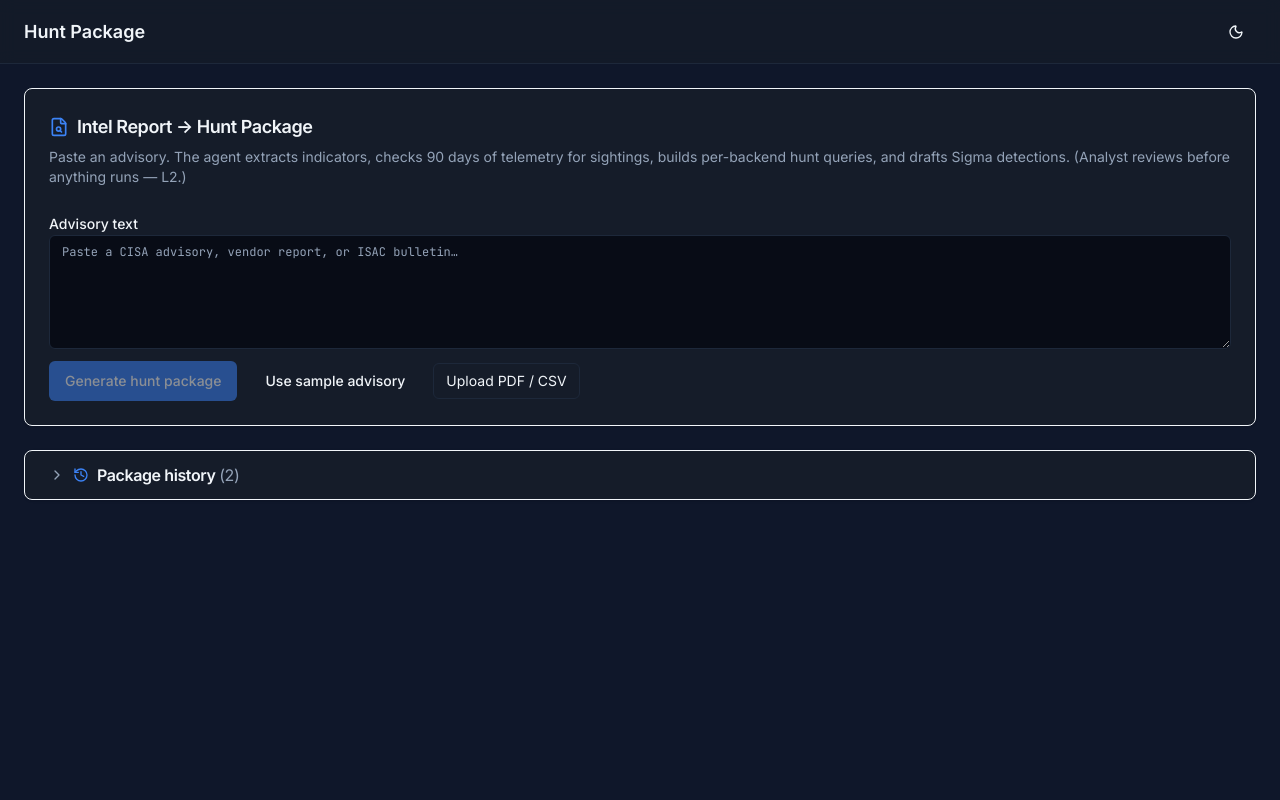
HuntPackagePage package history › re-opens a stored package on click via the detail endpoint
Click the button with test id "package-history-toggle": (156, 475) [49,463,1231,487]
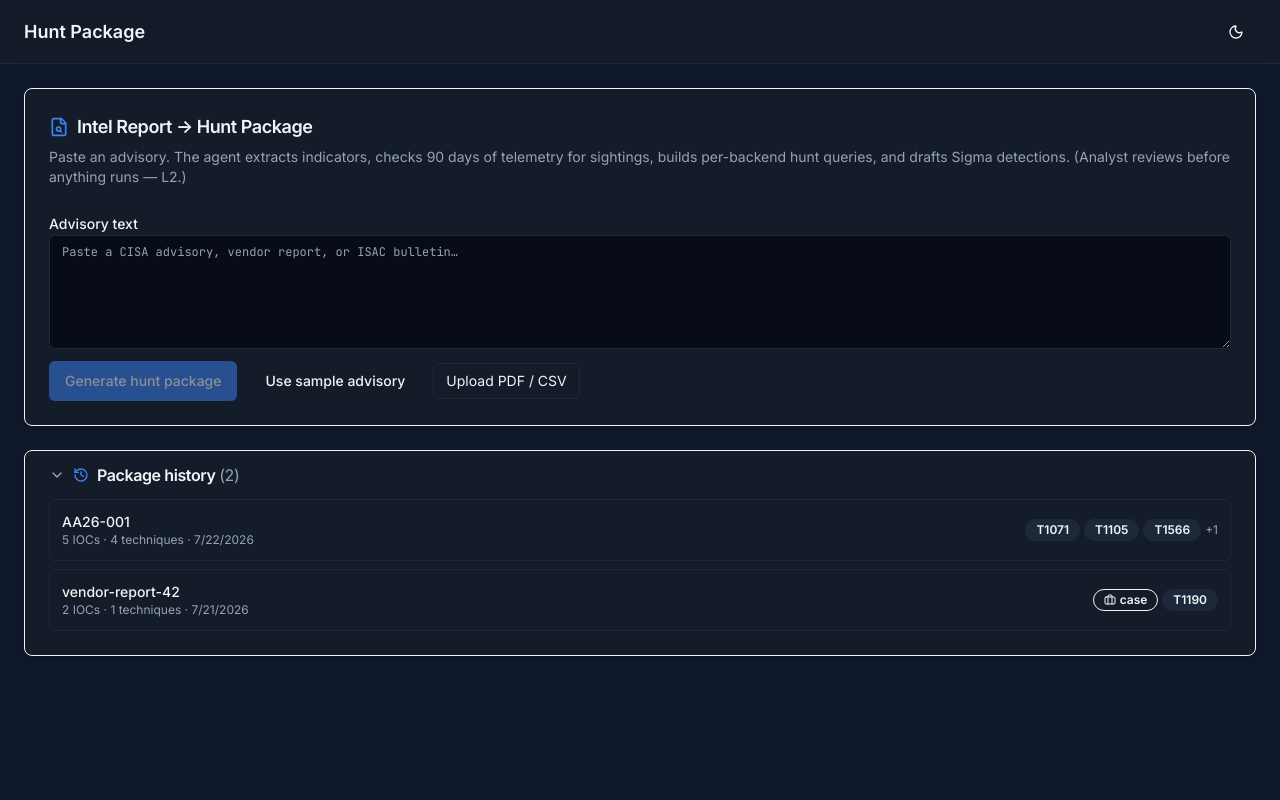
Click the button with test id "package-history-item-hpkg_A": (96, 522) [49,499,1231,561]
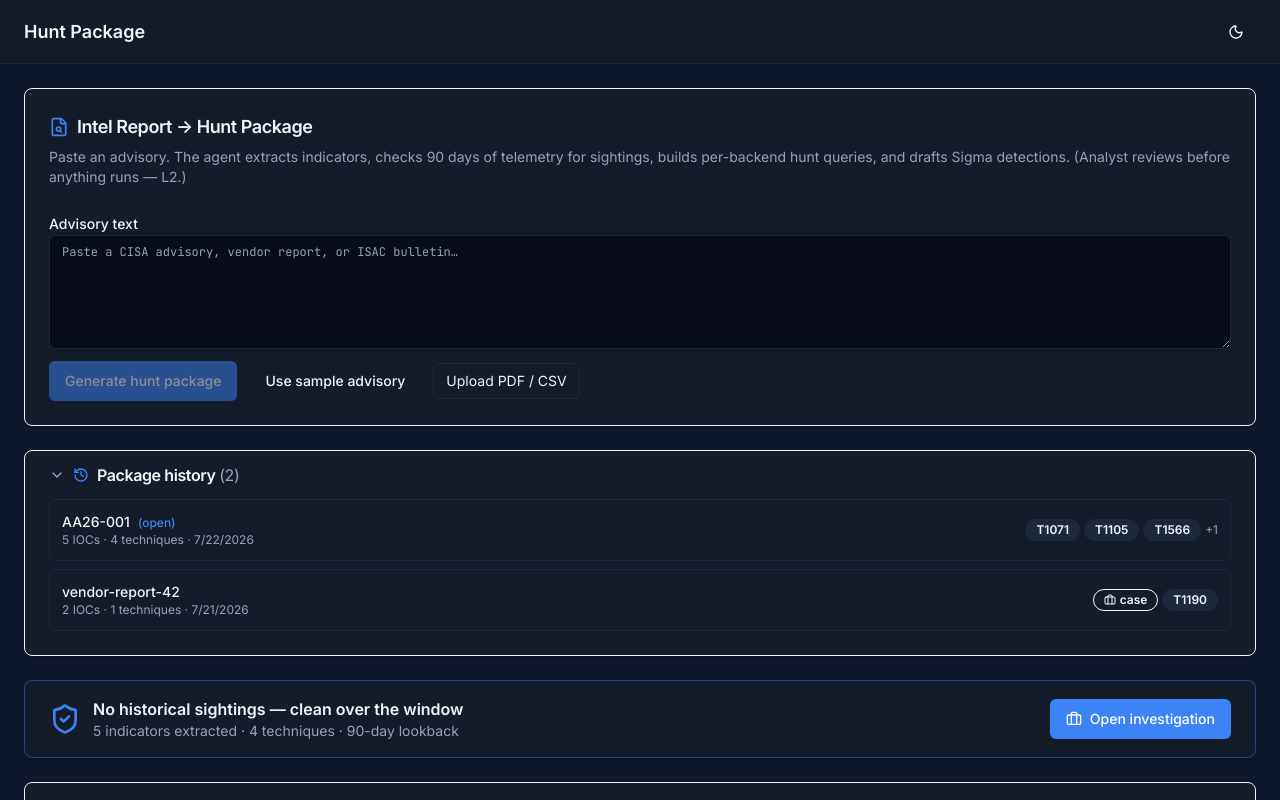
Expected: the text "No historical sightings — clean over the window" is shown, [93,699,464,719]
Expected: the text "(open)" is shown, [138,515,176,530]
